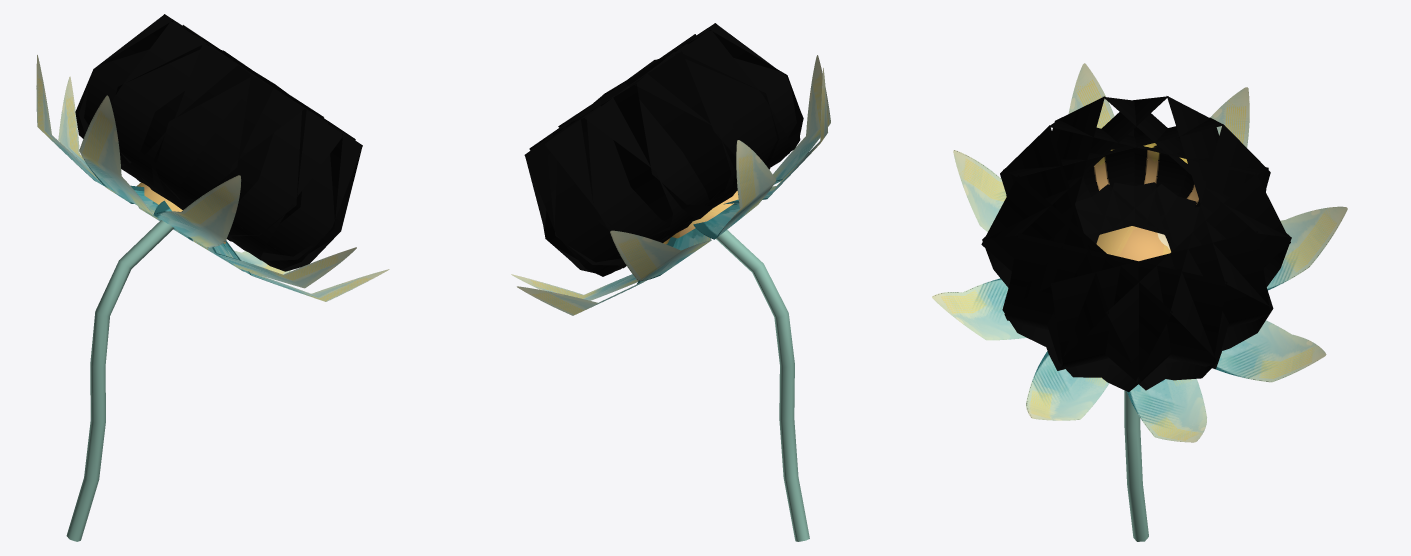
The model's file is fleur bleu2.0.fbx.
3 renders of one model, left to right at view 1: azimuth 30°, elevation 25°; view 2: azimuth 150°, elevation 25°; view 3: azimuth 270°, elevation 25°, orthographic. The views are drawn at different scales.
Parts seen in each view (by area): view 1: Pistil, Texture pétale fleur, BézierCurve; view 2: Pistil, Texture pétale fleur, BézierCurve, Cube; view 3: Pistil, Texture pétale fleur, BézierCurve, Cube.
Part boxes in pixels (x1,y1,x2,y2): Pistil: [75, 14, 362, 271]; Texture pétale fleur: [36, 55, 389, 301]; BézierCurve: [66, 220, 174, 541]; Pistil: [524, 23, 803, 276]; Texture pétale fleur: [511, 55, 830, 315]; BézierCurve: [716, 230, 809, 541]; Cube: [663, 191, 738, 244]; Pistil: [981, 96, 1291, 392]; Texture pétale fleur: [932, 63, 1347, 442]; BézierCurve: [1124, 390, 1148, 541]; Cube: [1096, 226, 1170, 261].
Size of the model in its own units: 14.34 by 20.22 by 18.13.
